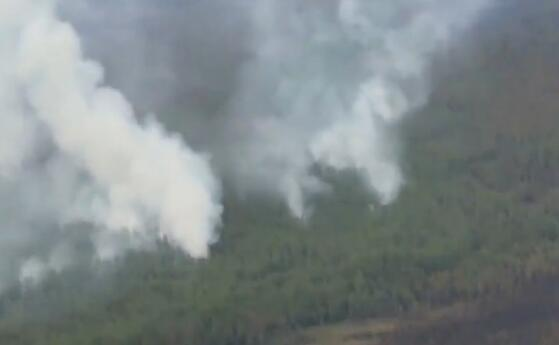yanwu: (1, 1, 474, 263)
